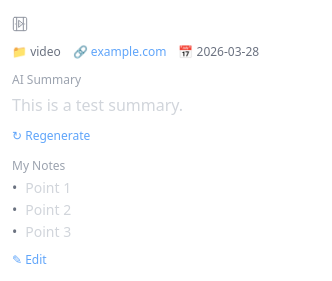
Scenario: ChapterCard › updates local summary after generation
The width and height of the screenshot is (332, 281).
Step 1. Click the button "↻ Regenerate" → (51, 136), box left=12, top=128, right=90, bottom=144
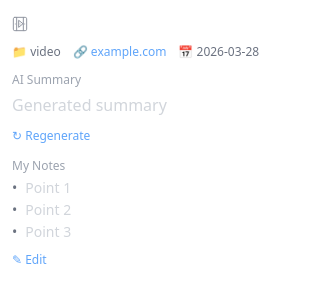
Expected: the text "Generated summary" is shown, left=12, top=94, right=167, bottom=116
